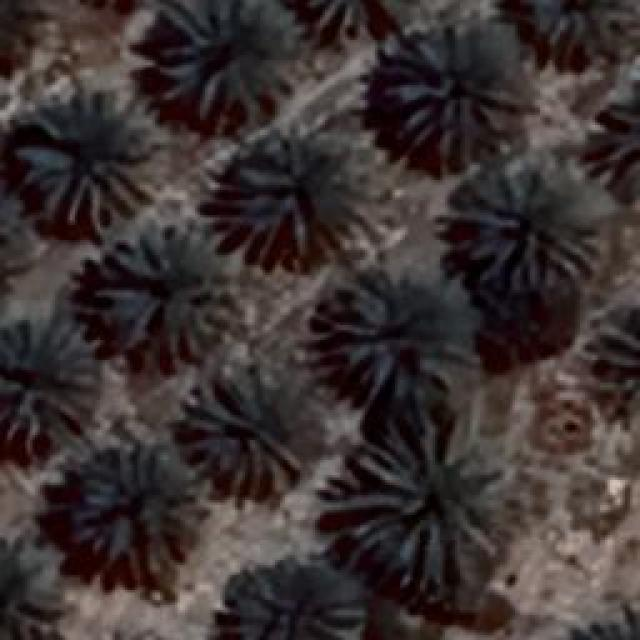PalmTree: (19, 38, 241, 429), (328, 415, 510, 583), (230, 115, 392, 268), (15, 88, 160, 230), (450, 155, 602, 290), (90, 220, 242, 355), (322, 270, 476, 400), (382, 20, 520, 160), (155, 0, 305, 120), (75, 445, 210, 570), (0, 312, 102, 445), (217, 592, 365, 638), (0, 534, 65, 638), (530, 0, 635, 55), (590, 302, 638, 422), (595, 67, 635, 195), (0, 175, 24, 302), (305, 0, 390, 30), (560, 613, 640, 640), (0, 170, 15, 296), (561, 621, 640, 640)
